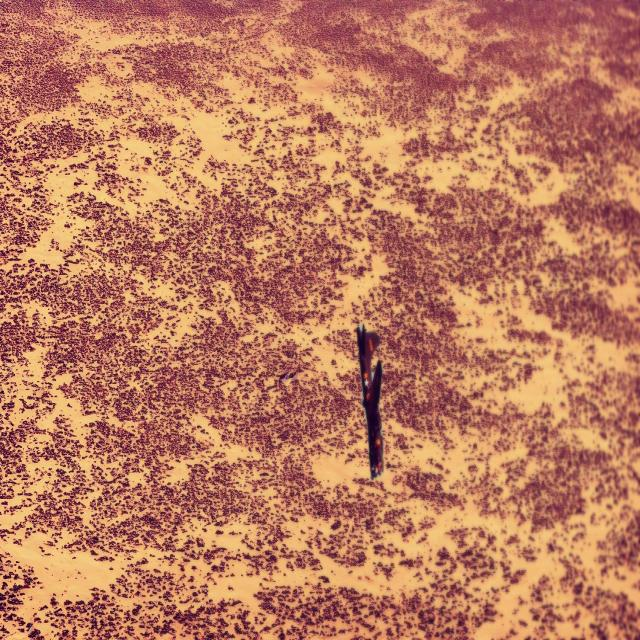airplane: (356, 323, 384, 480)
